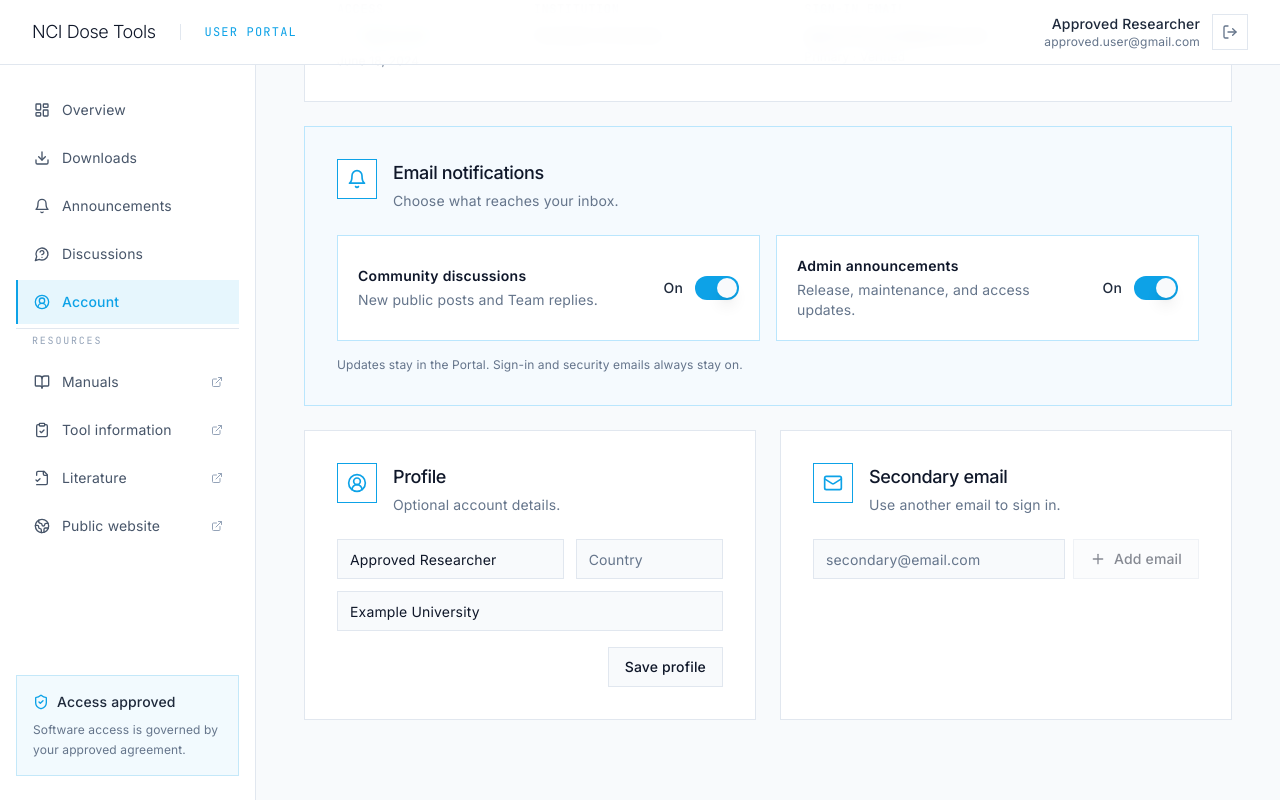
Scenario: portal migration experience › lets an approved user add one optional email for verification
(page scrolled)
In the field with placeholder "secondary@email.com": x=939, y=559 [813,539,1065,579], type "researcher@university.edu"
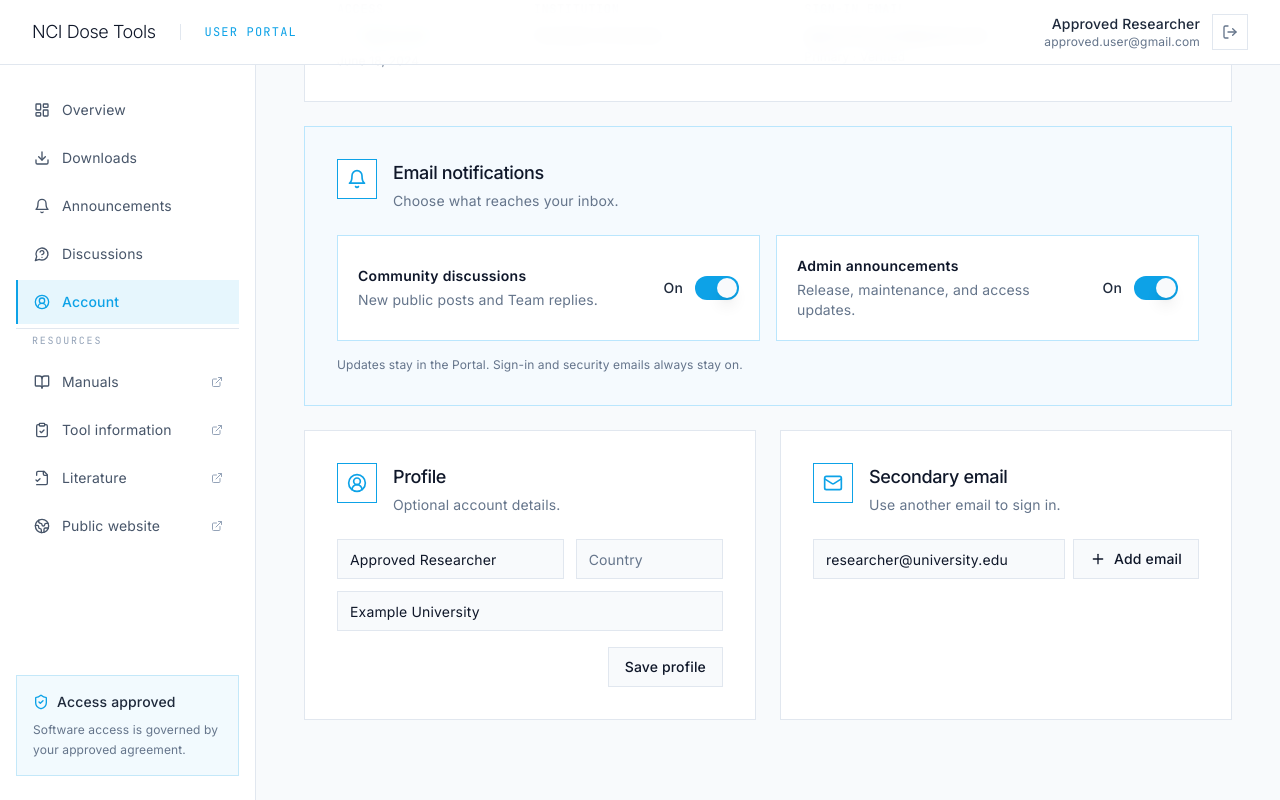
Click the button "Add email": x=1136, y=559 [1073,539,1199,579]
(page scrolled)
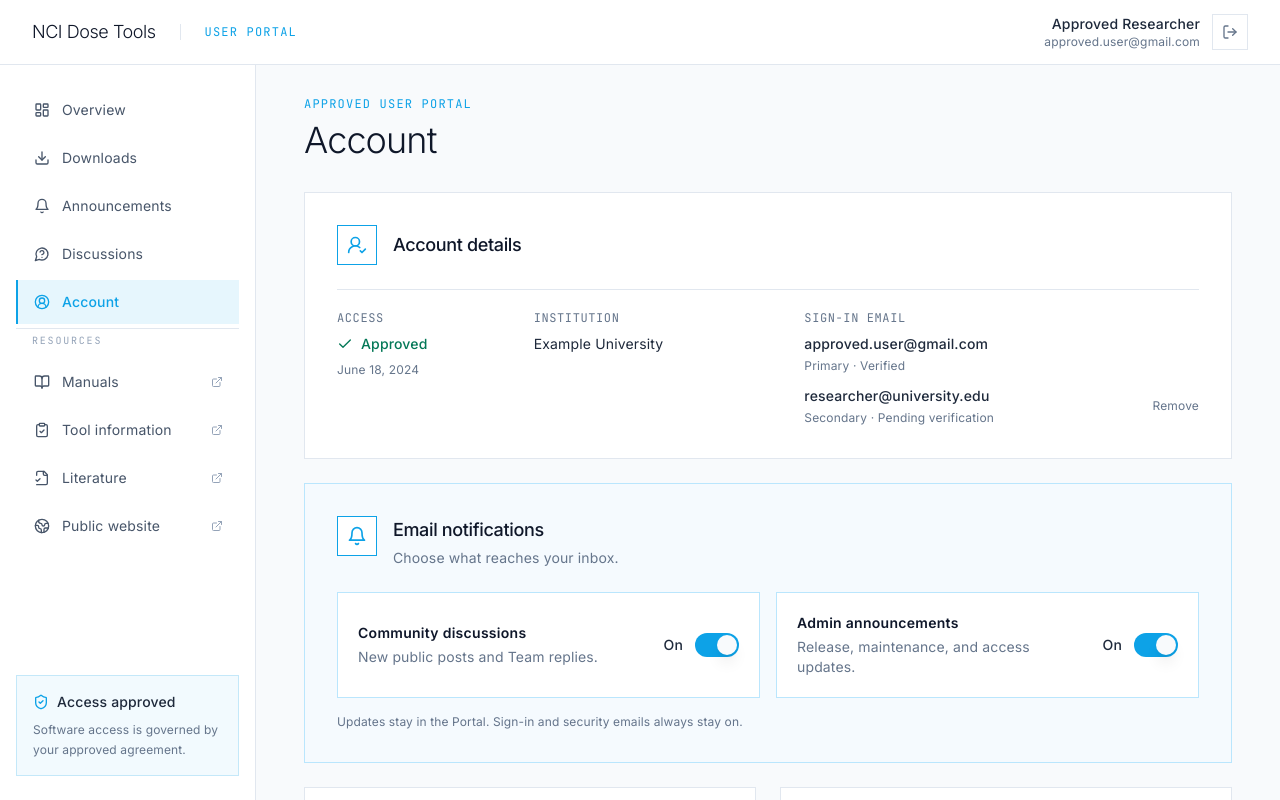
Expected: the heading "Account details" is shown, [393,231,521,259]
Expected: the text "researcher@university.edu" is shown 2 times
